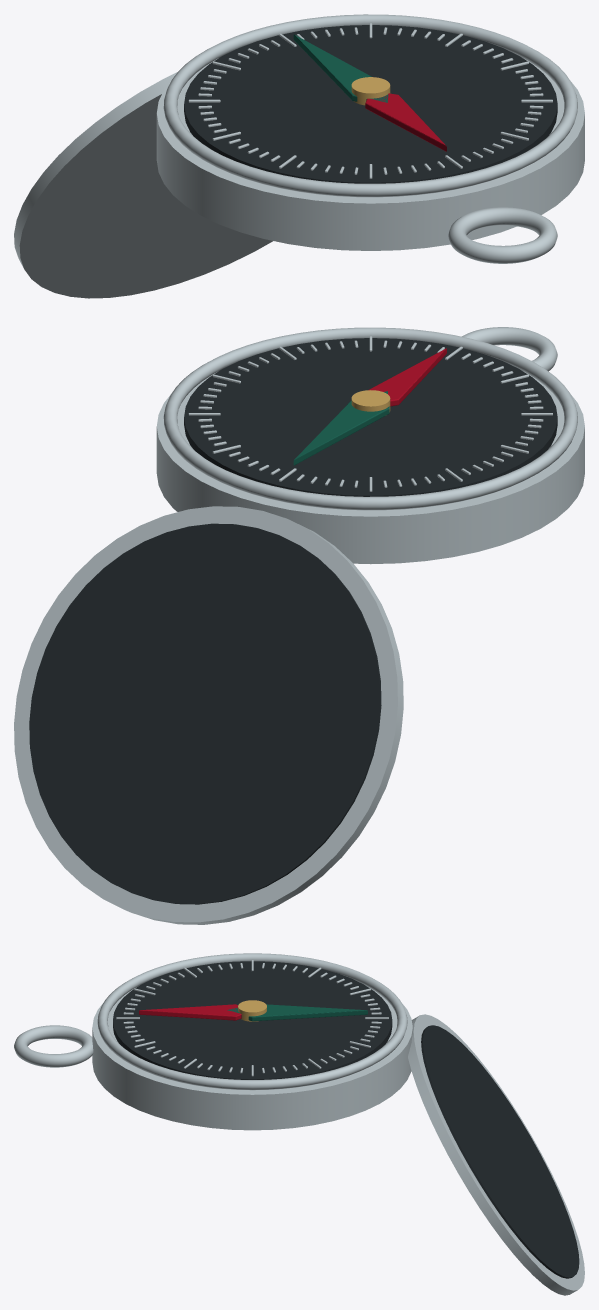
File: custom.glb
3 views of the same model, one above another, from view 1: azimuth 30°, elevation 25°; view 2: azimuth 150°, elevation 25°; view 3: azimuth 270°, elevation 25° (orthographic). The views are drawn at different scales.
Visible parts, largest first — view 1: InterestShield-custom-authored-v1; view 2: InterestShield-custom-authored-v1; view 3: InterestShield-custom-authored-v1.
Part boxes in pixels (bbox=[...]): InterestShield-custom-authored-v1: bbox=[14, 14, 584, 298]; InterestShield-custom-authored-v1: bbox=[14, 327, 584, 924]; InterestShield-custom-authored-v1: bbox=[14, 953, 584, 1295].
Bounding box in the file's own units: 1.8 × 1.68 × 3.2.
